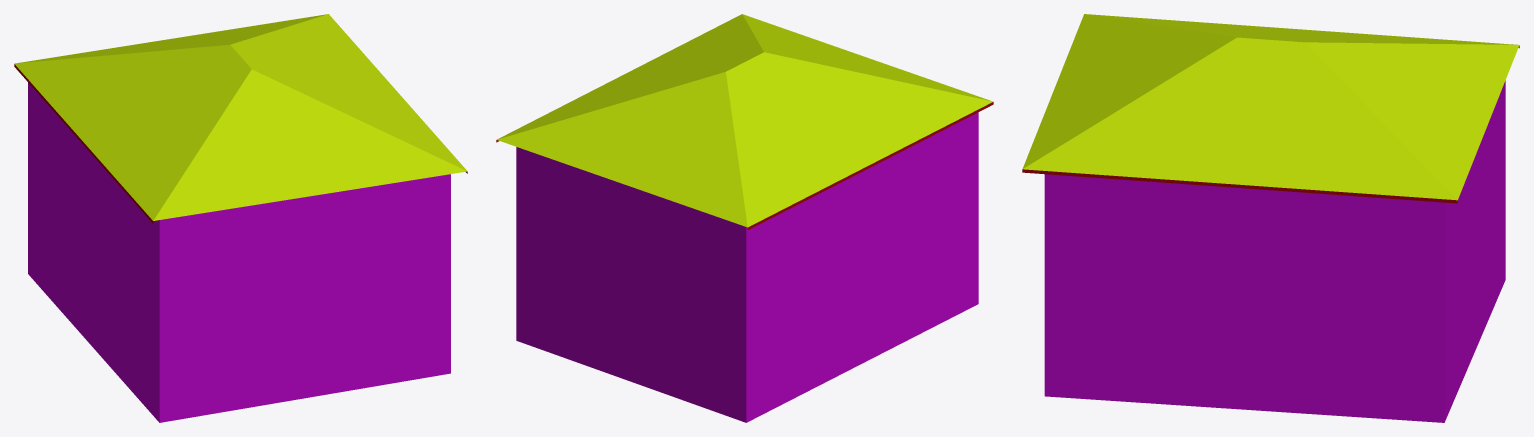
Rendered from bgj_402.glb.
The picture shows the model from 3 angles, left to right: view 1: azimuth 30°, elevation 25°; view 2: azimuth 150°, elevation 25°; view 3: azimuth 270°, elevation 25°; orthographic projection. The views are drawn at different scales.
Visible parts, largest first — view 1: bgj_402; view 2: bgj_402; view 3: bgj_402.
Part boxes in pixels (x1,y1,x2,y2): bgj_402: (14,14,467,422); bgj_402: (496,14,993,422); bgj_402: (1022,14,1519,422).
Size of the model in its own units: 14.62 by 10.9 by 16.49.
